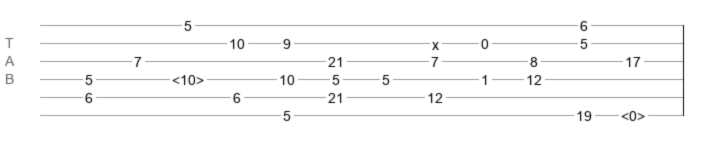0: (481, 36, 489, 46)
1: (481, 72, 489, 82)
10: (229, 36, 245, 46), (279, 72, 295, 82)
12: (427, 90, 443, 100), (526, 72, 542, 82)
17: (625, 54, 641, 64)
19: (576, 108, 592, 118)
21: (328, 90, 344, 100), (328, 54, 344, 64)
5: (85, 72, 93, 82), (184, 18, 192, 28), (283, 108, 291, 118), (332, 72, 340, 82), (382, 72, 390, 82), (580, 36, 588, 46)
6: (85, 90, 93, 100), (233, 90, 241, 100), (580, 18, 588, 28)
7: (134, 54, 142, 64), (431, 54, 439, 64)
8: (530, 54, 538, 64)
9: (283, 36, 291, 46)
harmonic: (172, 72, 204, 82), (621, 108, 645, 118)
x: (432, 37, 439, 45)
